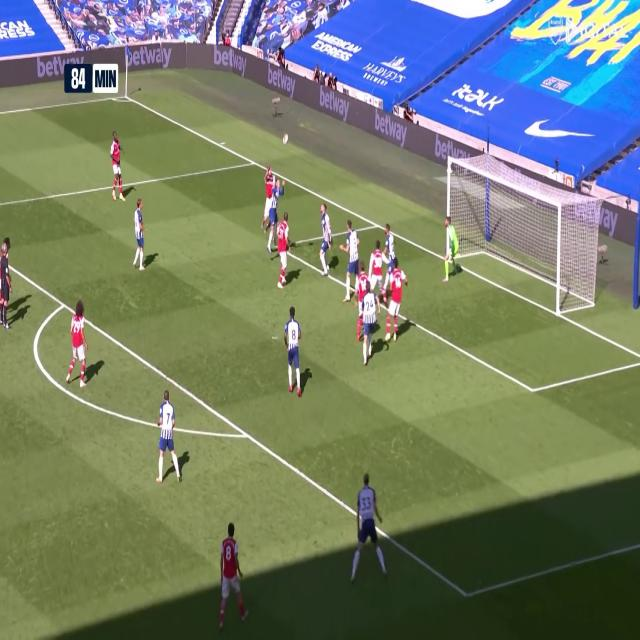Ball: (282, 130, 293, 142)
GoalKeeper: (444, 218, 460, 283)
TEAM 1: (217, 523, 247, 628), (67, 300, 91, 384), (384, 264, 408, 341), (269, 214, 294, 287), (368, 246, 390, 298), (354, 258, 368, 332), (111, 131, 126, 200), (262, 158, 274, 226)
TEAM 2: (350, 472, 392, 586), (154, 389, 182, 484), (340, 210, 360, 302), (283, 309, 303, 397), (382, 209, 398, 297), (316, 202, 334, 278), (131, 200, 149, 272), (267, 171, 283, 252), (362, 284, 377, 365)
